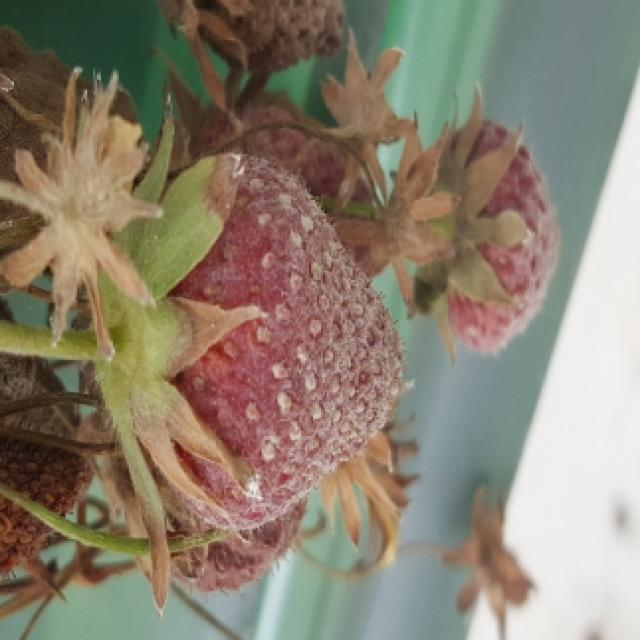Powdery Mildew Fruit: (108, 155, 413, 530), (0, 24, 150, 261), (0, 300, 95, 581), (163, 0, 348, 75)
